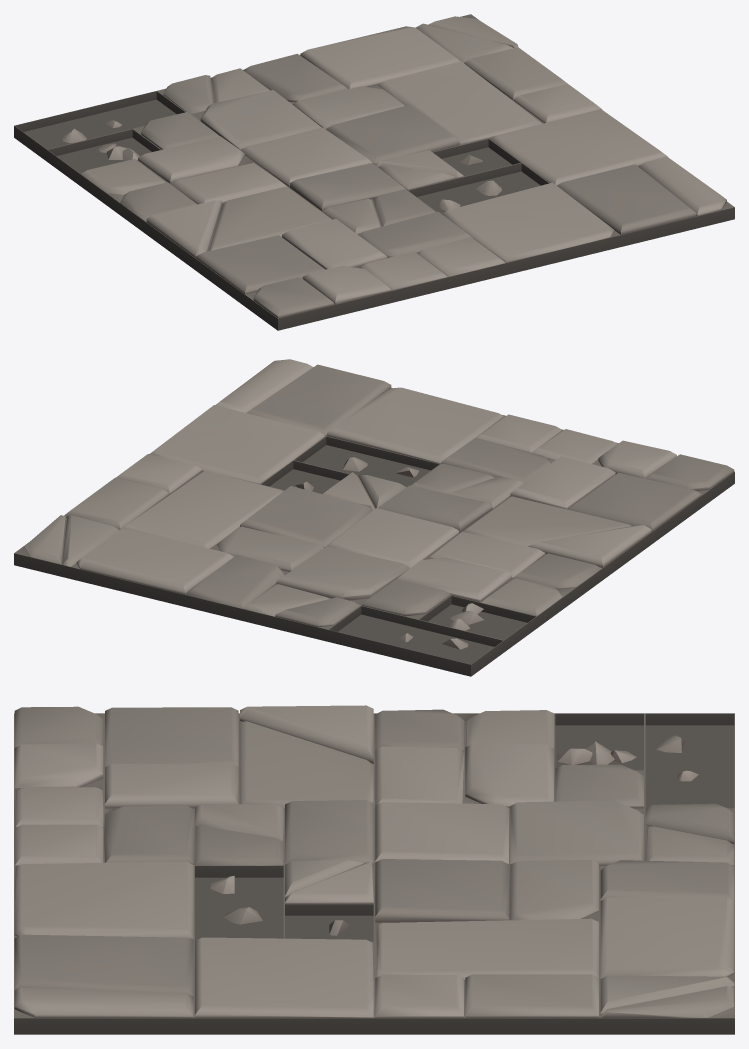
The model's file is floor_flagstones_ruined_large_D.glb.
3 views of the same model, one above another, from view 1: azimuth 30°, elevation 25°; view 2: azimuth 150°, elevation 25°; view 3: azimuth 270°, elevation 25° (orthographic). The views are drawn at different scales.
Visible parts, largest first — view 1: Item; view 2: Item; view 3: Item.
Part boxes in pixels (<box>): Item: <box>14,14,734,330</box>; Item: <box>14,359,734,676</box>; Item: <box>14,705,734,1034</box>.
Bounding box in the file's own units: 4 × 0.1753 × 4.
Materials: 1 (1 with a texture image).
